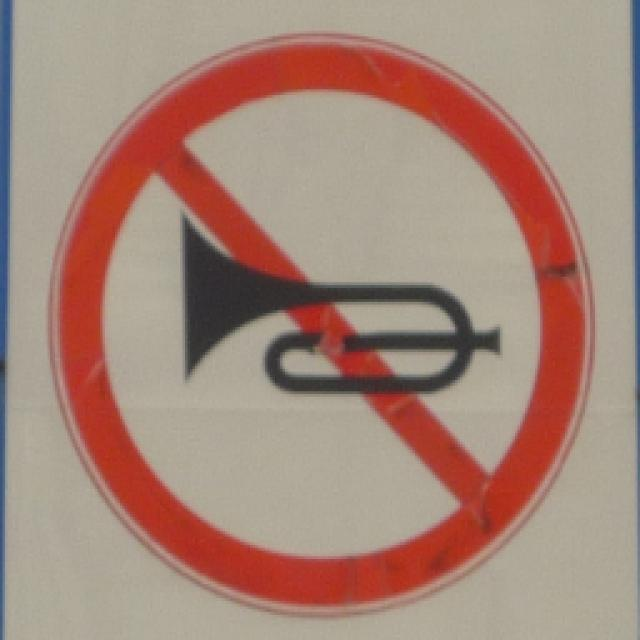No Horn: (47, 28, 598, 618)
